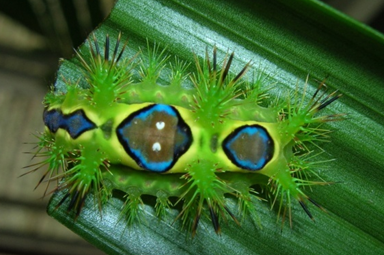Pest! (nettle_caterpillar): (33, 48, 326, 217)
